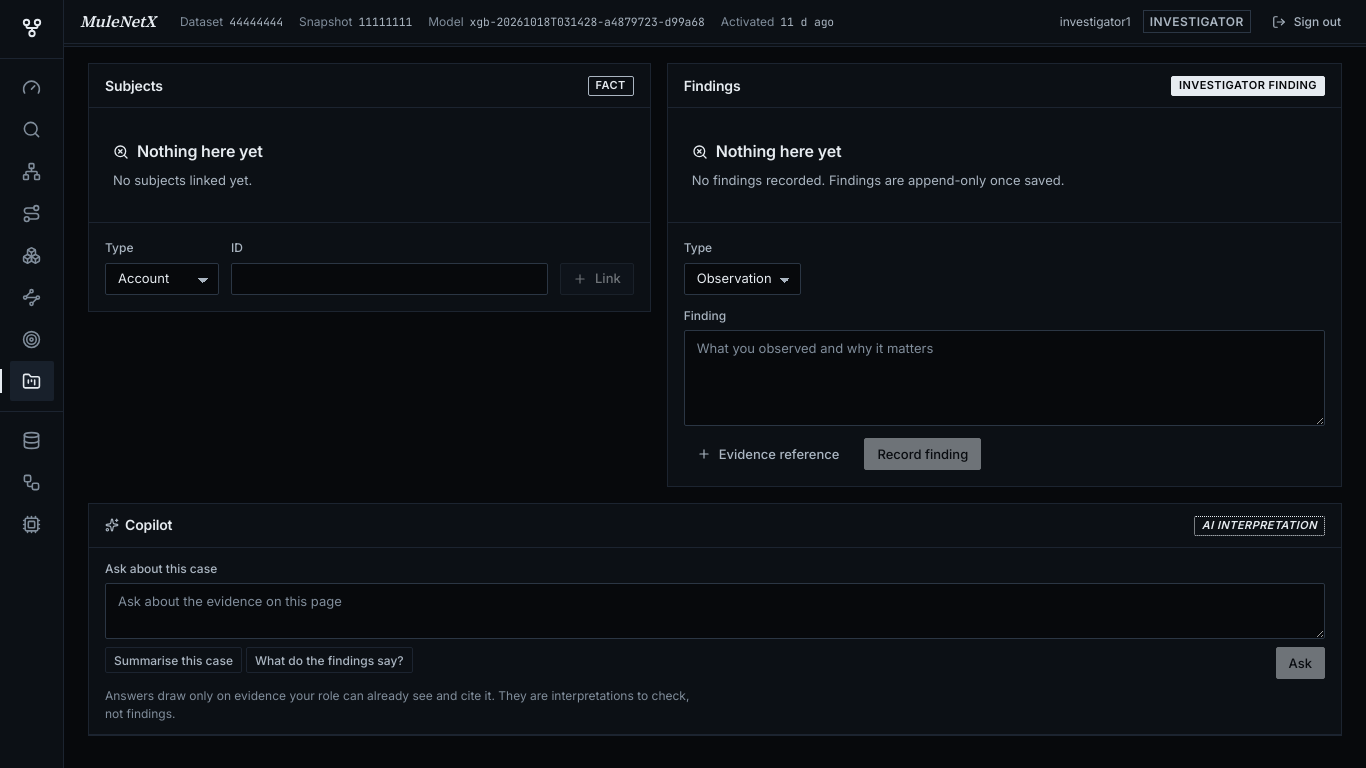
Test: copilot panel (T41) › appears in the case workspace with the case as scope
(page scrolled)
What coordinates should you click on to do the following:
click the button "Summarise this case"
I would click on:
 (174, 660)
Its box is left=105, top=647, right=242, bottom=673.
(page scrolled)
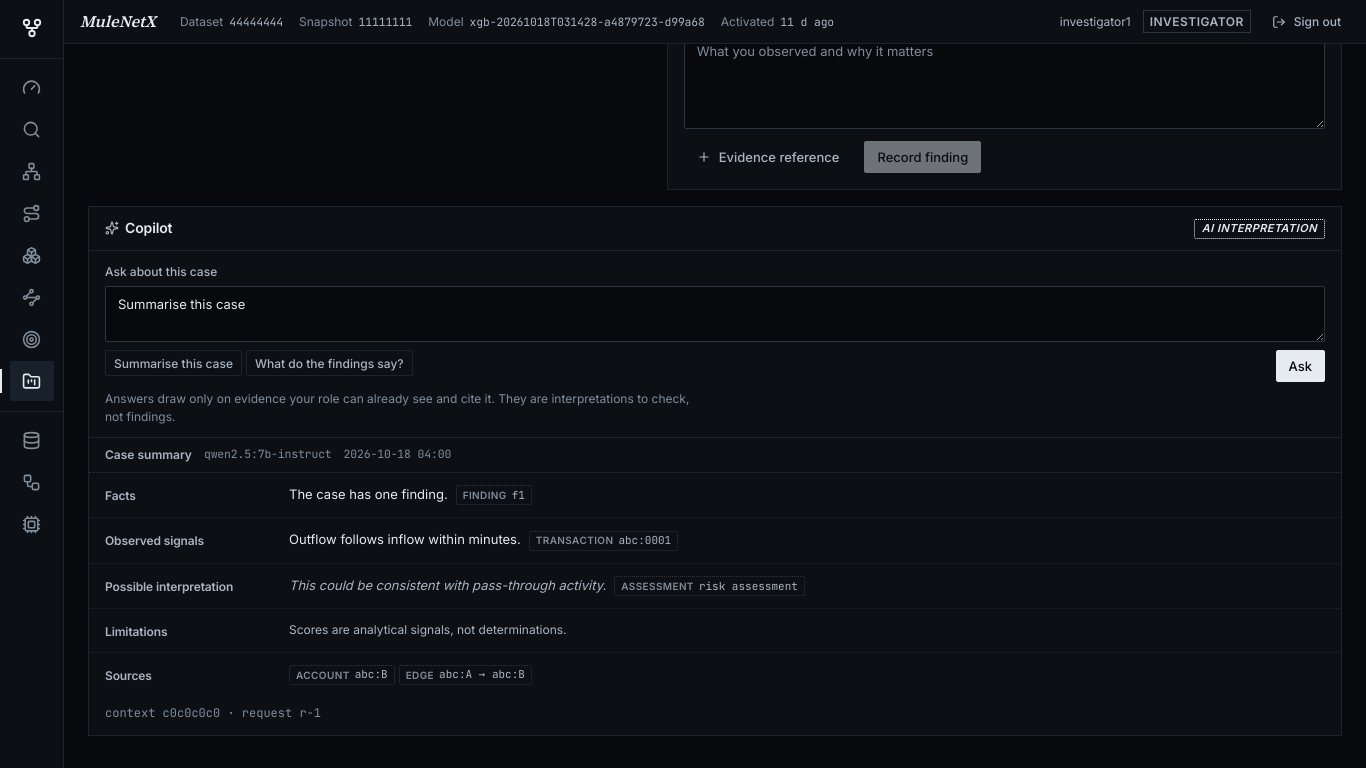
expect the text "The case has one finding." is shown: met, box left=289, top=485, right=448, bottom=504
